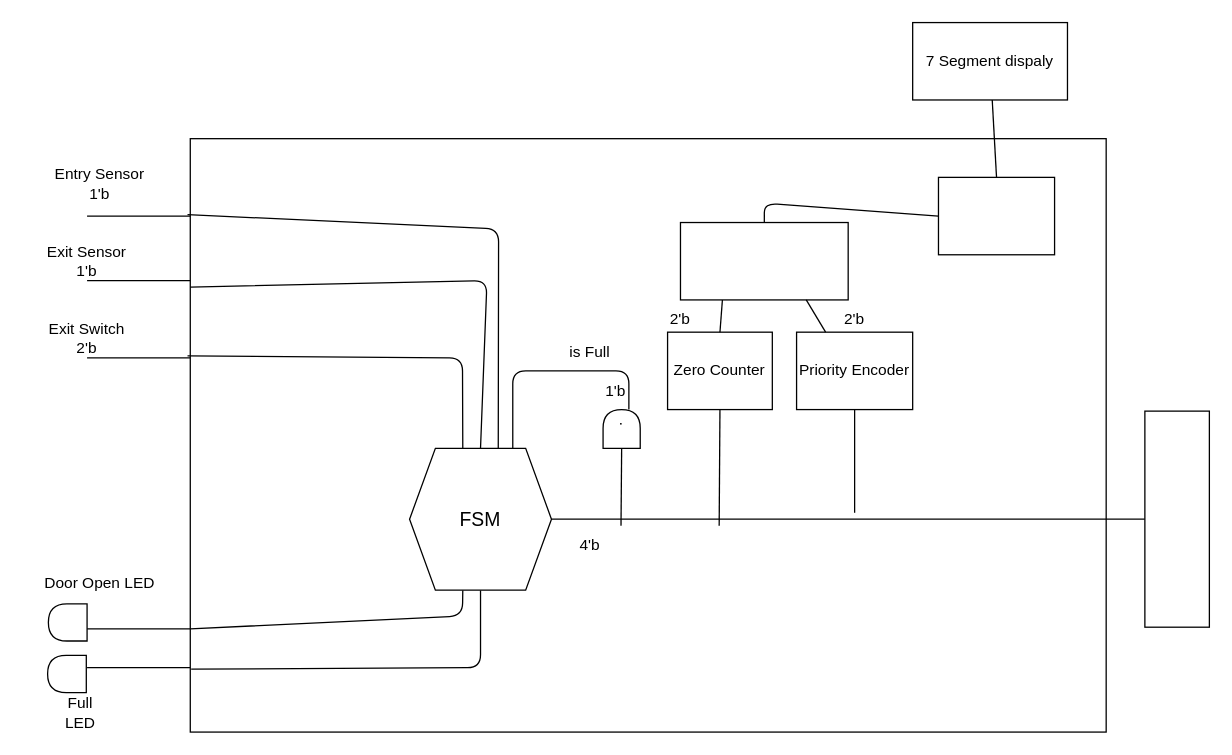
Image size: 1232x755. Some labels were removed from this diagram. The centre of each missing label's shape, as x and y in pixels:
"4 LED On Park Spots" goes at [1176,518].
"BCD to 7seg" goes at [763,260].
"Digit MultiPlxer" goes at [996,215].
